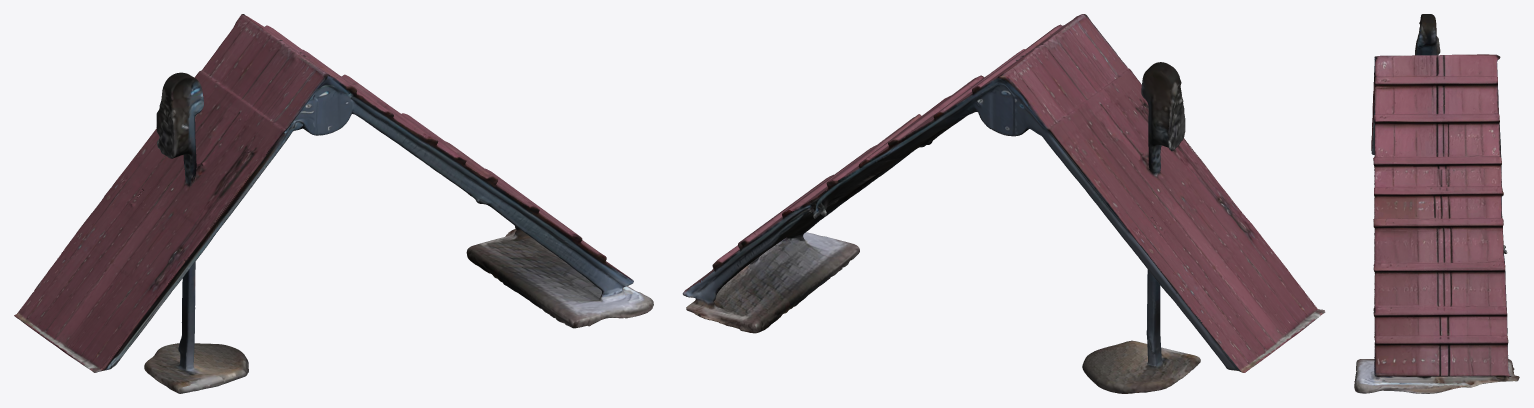
File: PARQUE1.fbx
The picture shows the model from 3 angles, left to right: view 1: azimuth 30°, elevation 25°; view 2: azimuth 150°, elevation 25°; view 3: azimuth 270°, elevation 25°; orthographic projection. The views are drawn at different scales.
Parts seen in each view (by area): view 1: tripo_node_a42d775a; view 2: tripo_node_a42d775a; view 3: tripo_node_a42d775a.
Part boxes in pixels (left/top/right/bottom): tripo_node_a42d775a: left=14, top=14, right=653, bottom=393; tripo_node_a42d775a: left=682, top=14, right=1325, bottom=393; tripo_node_a42d775a: left=1354, top=14, right=1519, bottom=393.
Bounding box in the file's own units: 100 × 52.76 × 34.61.
1 material, 1 textured.
